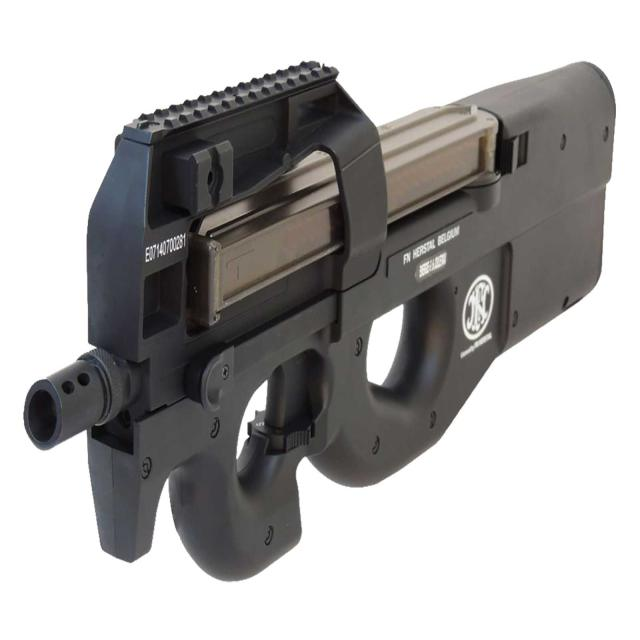Gun: (27, 46, 636, 612)
